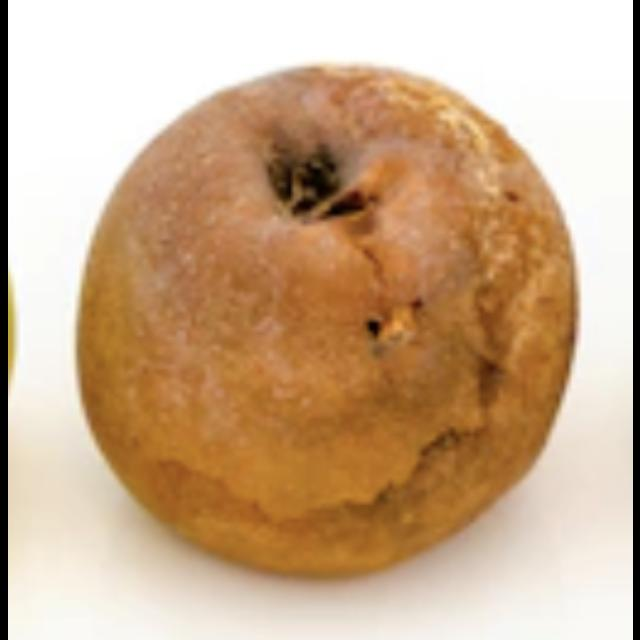Apel Tidak Segar: (68, 57, 582, 587)
